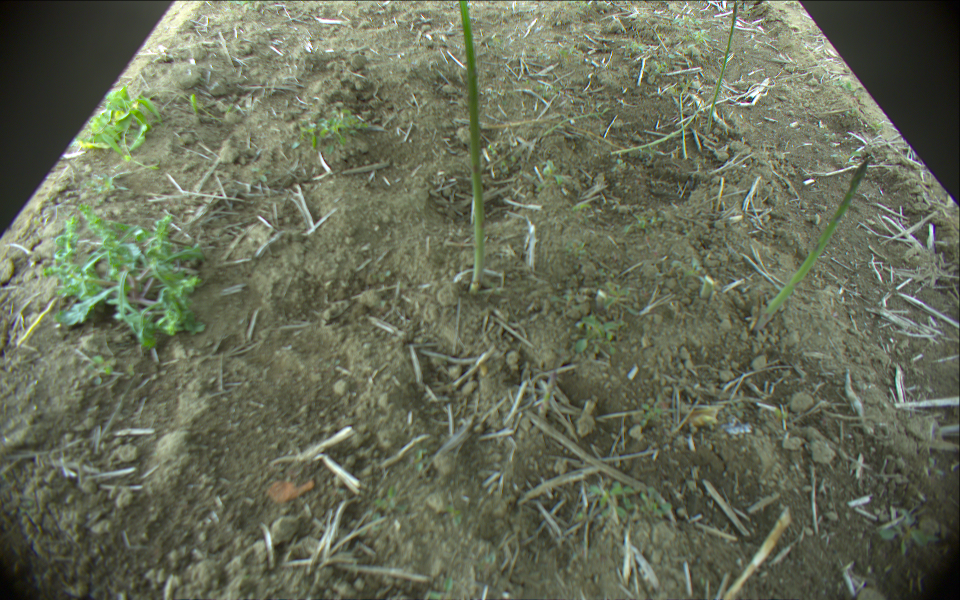aspa: (746, 155, 870, 335), (452, 1, 484, 293), (609, 100, 704, 156), (704, 2, 739, 132), (676, 87, 691, 159), (698, 274, 717, 298)
